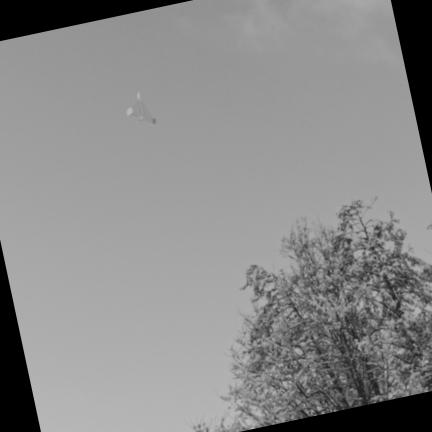Shahed: (127, 92, 156, 125)
